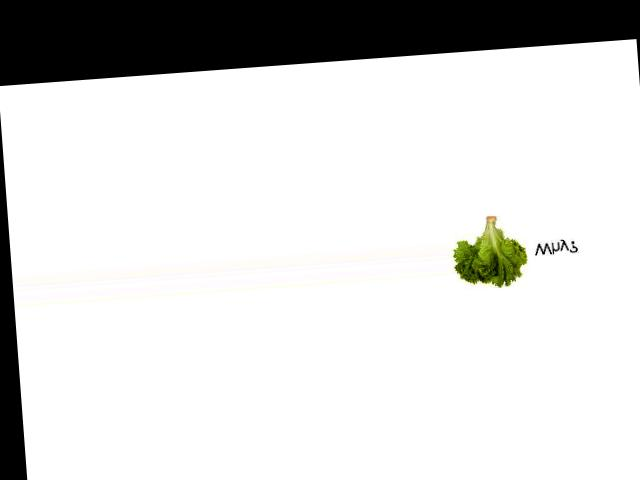lettuce: (448, 212, 535, 291)
